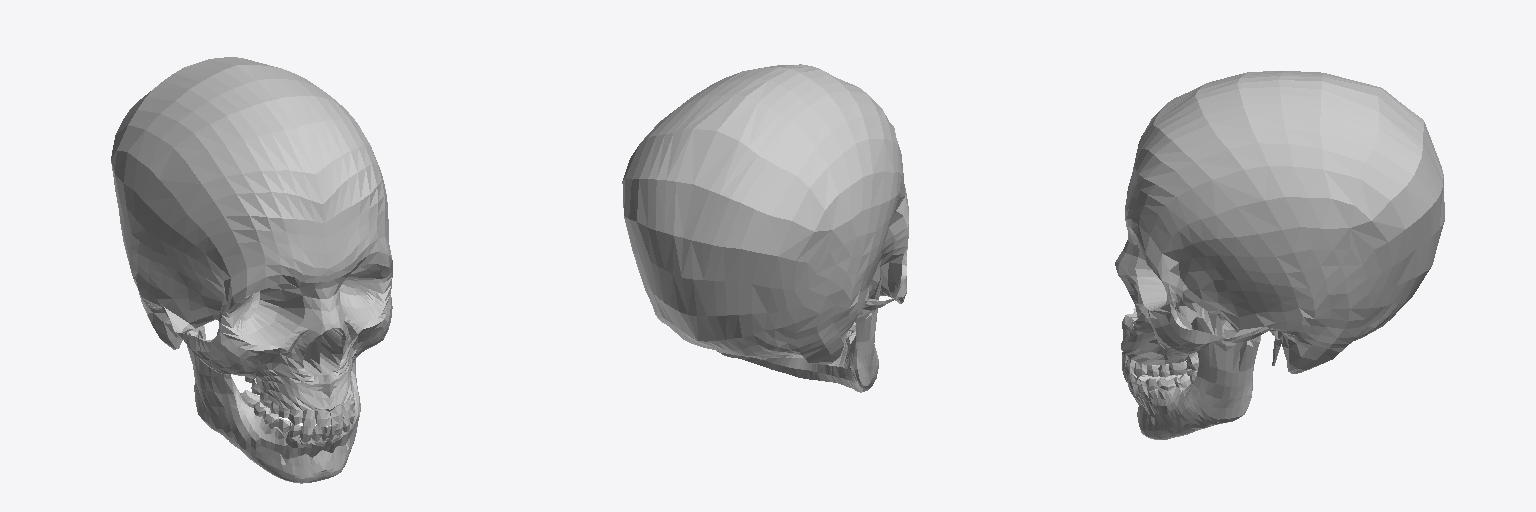
File: craneo.obj
The picture shows the model from 3 angles: view 1: azimuth 30°, elevation 25°; view 2: azimuth 150°, elevation 25°; view 3: azimuth 270°, elevation 25°; orthographic projection.
Visible parts, largest first — view 1: Dientes.002_Plano.006; view 2: Dientes.002_Plano.006; view 3: Dientes.002_Plano.006.
Part boxes in pixels (x1,y1,x2,y2): Dientes.002_Plano.006: (111,57,392,483); Dientes.002_Plano.006: (622,64,908,392); Dientes.002_Plano.006: (1115,71,1444,439).
Size of the model in its own units: 4.77 by 7.28 by 6.2.